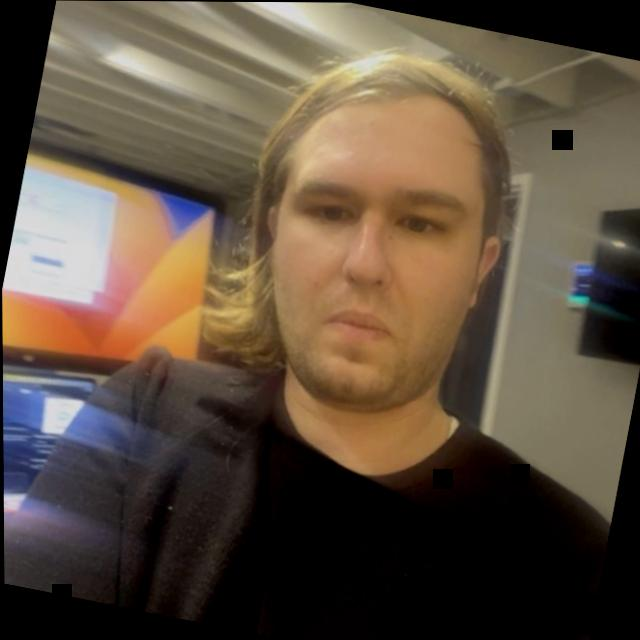NO-Mask: (200, 36, 563, 529)
